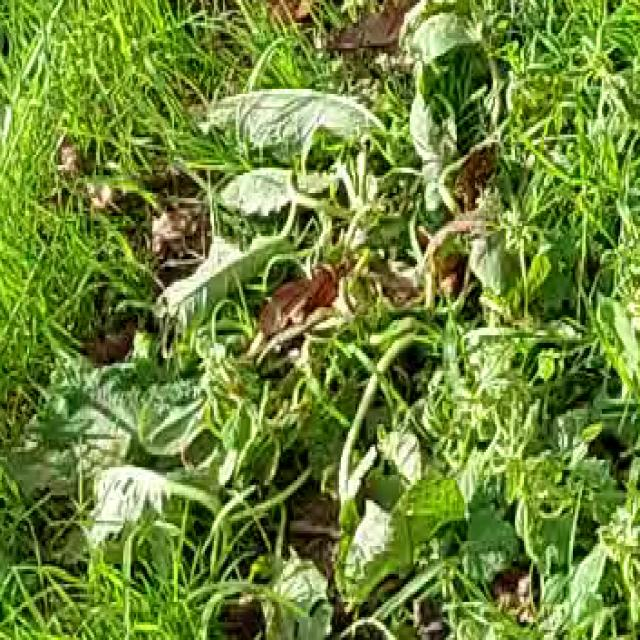organic waste: (192, 38, 466, 422), (40, 287, 321, 579)
